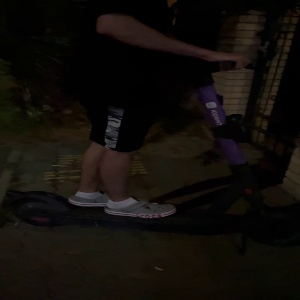human on a scooter: (5, 1, 292, 249)
